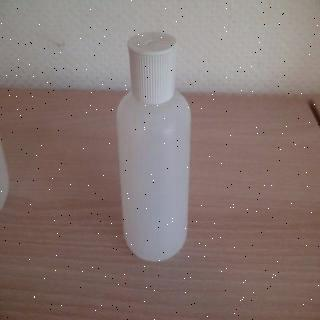Plastic-bottle: (115, 30, 197, 264)
